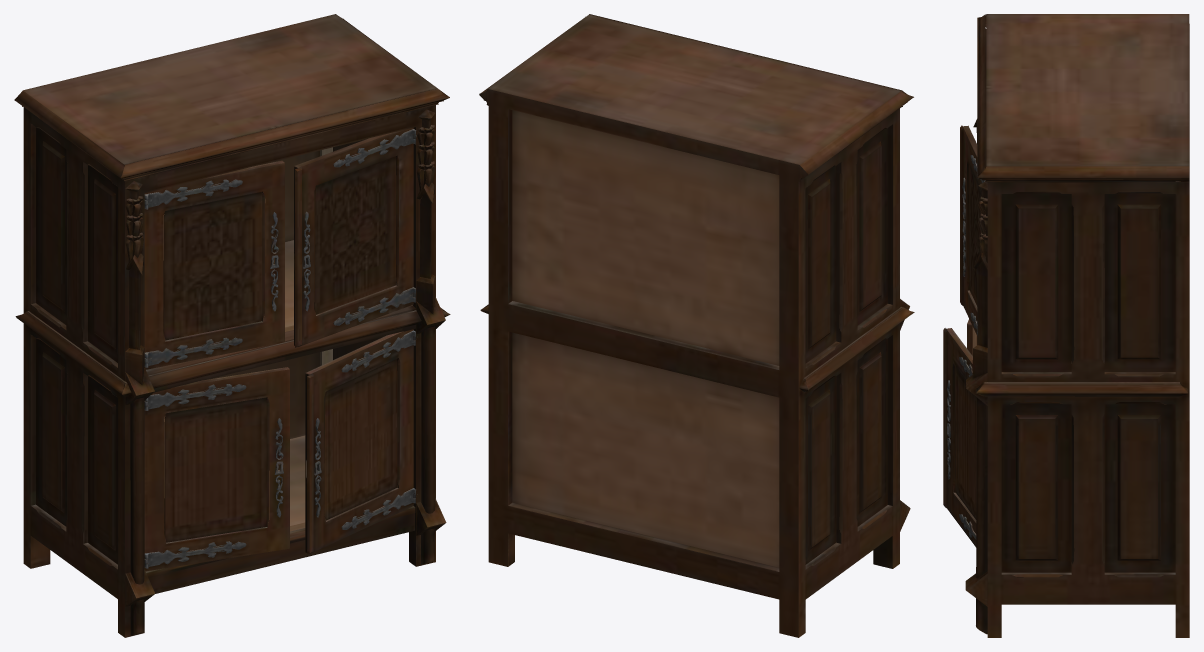
File: cabinet.glb
The picture shows the model from 3 angles, left to right: view 1: azimuth 30°, elevation 25°; view 2: azimuth 150°, elevation 25°; view 3: azimuth 270°, elevation 25°; orthographic projection.
Parts seen in each view (by area): view 1: Body, DoorBL, DoorTL, DoorTR, DoorBR; view 2: Body; view 3: Body, DoorBR, DoorTR.
Part boxes in pixels (x1,y1,x2,y2): Body: (14, 14, 450, 637); DoorBL: (144, 367, 289, 571); DoorTL: (144, 160, 284, 369); DoorTR: (294, 127, 416, 347); DoorBR: (305, 329, 417, 554); Body: (479, 14, 914, 637); Body: (965, 14, 1189, 637); DoorBR: (943, 328, 976, 547); DoorTR: (960, 125, 985, 336).
Bounding box in the file's own units: 1.28 × 1.75 × 0.8279.
Materials: 1 (1 with a texture image).
